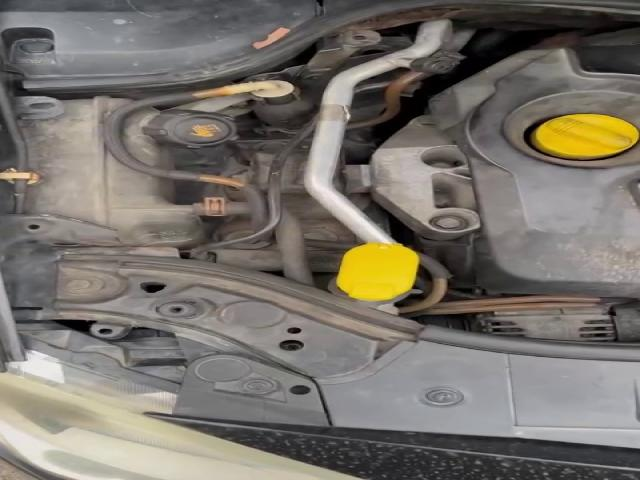antifreeze_tank: (20, 97, 203, 247), (124, 108, 236, 167)
